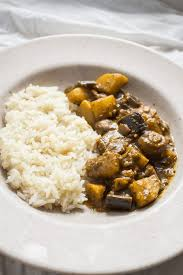rice: (2, 71, 183, 228)
